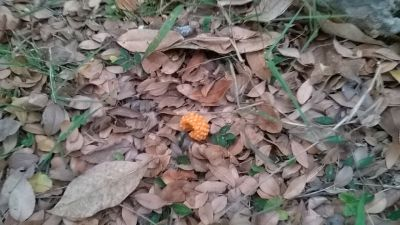eggs: (179, 110, 211, 142)
